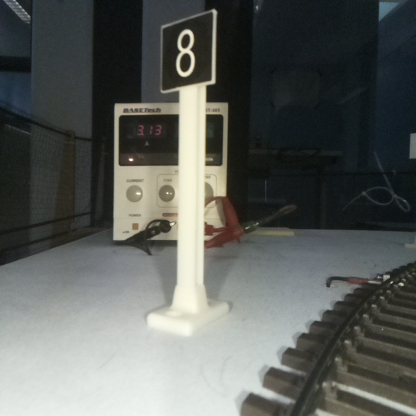black-info-8: (162, 13, 212, 326)
